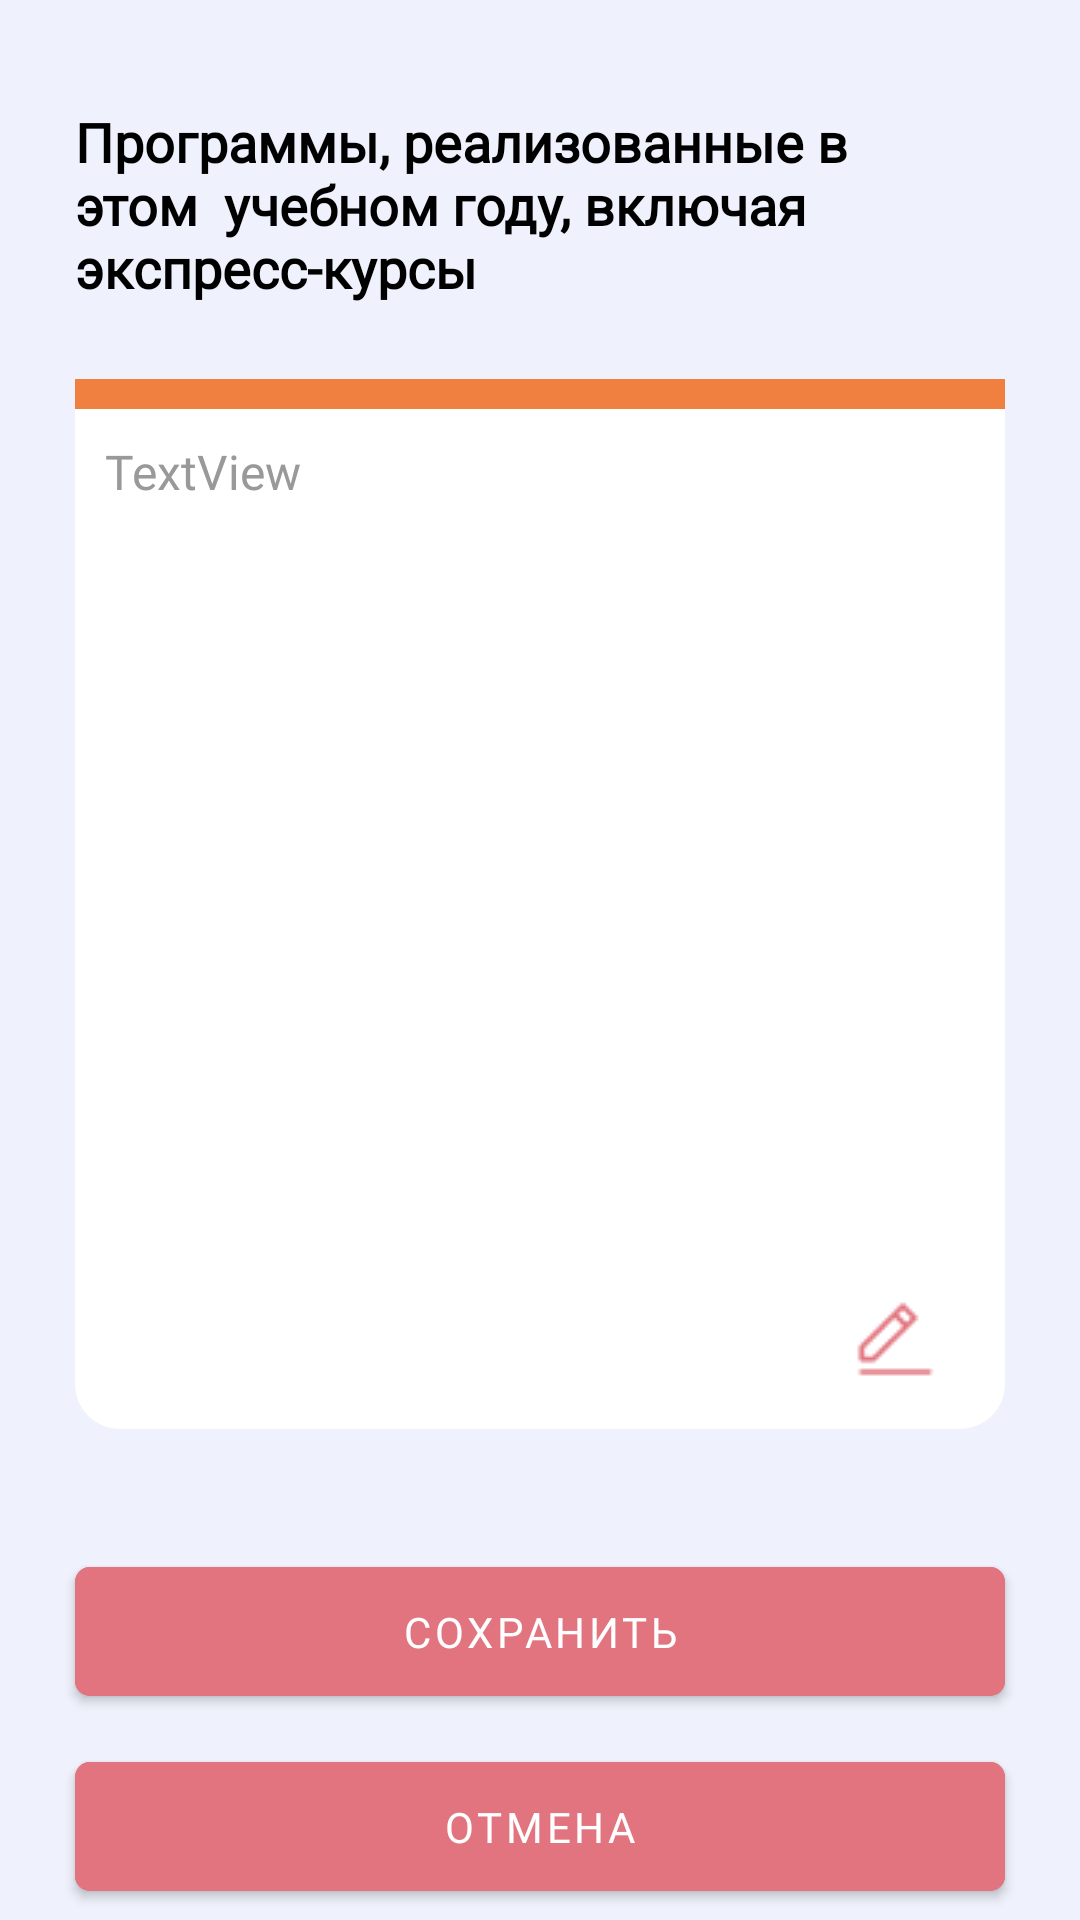

Point at icon controls on the screen. Image size 1080 × 1920, points as [x,y].
edit: [895,1339]
